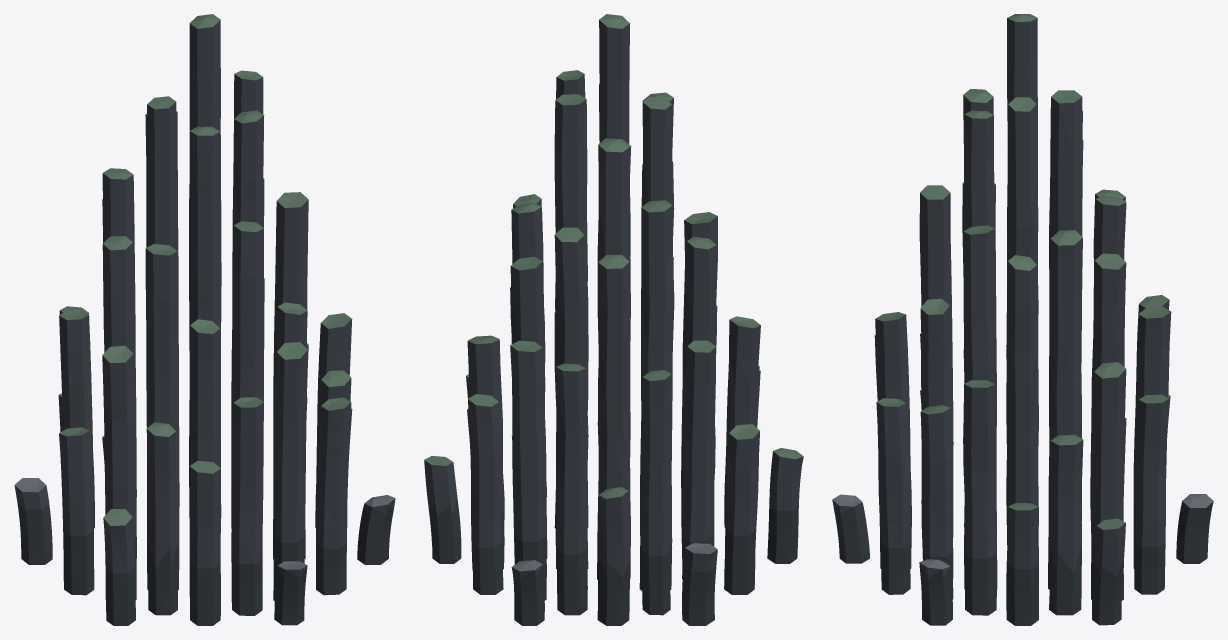
Rendered from rock_basalt_monolith.glb.
The picture shows the model from 3 angles, left to right: view 1: azimuth 30°, elevation 25°; view 2: azimuth 150°, elevation 25°; view 3: azimuth 270°, elevation 25°; orthographic projection.
Visible parts, largest first — view 1: RockBasaltMonolith; view 2: RockBasaltMonolith; view 3: RockBasaltMonolith.
Boxes of the visible parts, <box> form: RockBasaltMonolith: <box>14,14,395,625</box>; RockBasaltMonolith: <box>424,14,803,625</box>; RockBasaltMonolith: <box>832,14,1213,625</box>.
Size of the model in its own units: 22.22 by 40.04 by 25.48.
